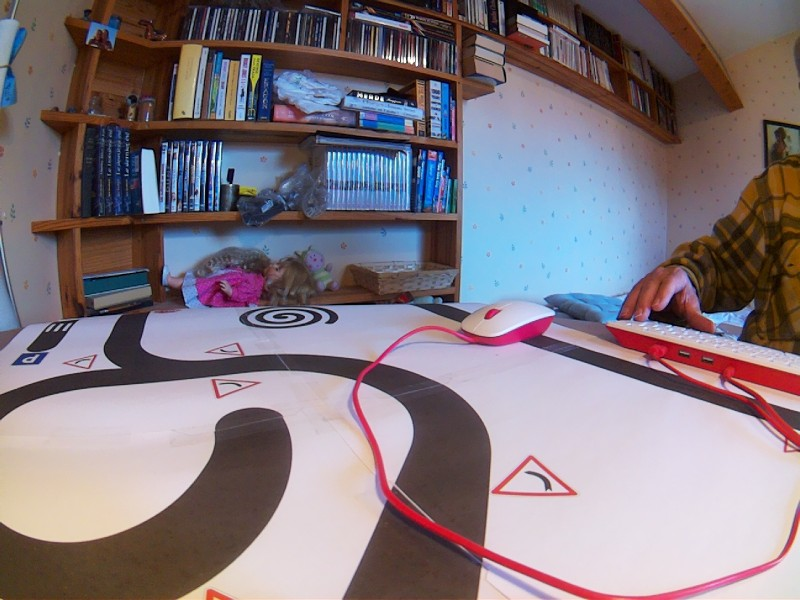leftPanel: (387, 416, 582, 506)
leftTurn: (386, 419, 494, 506)
nest: (235, 306, 341, 330)
